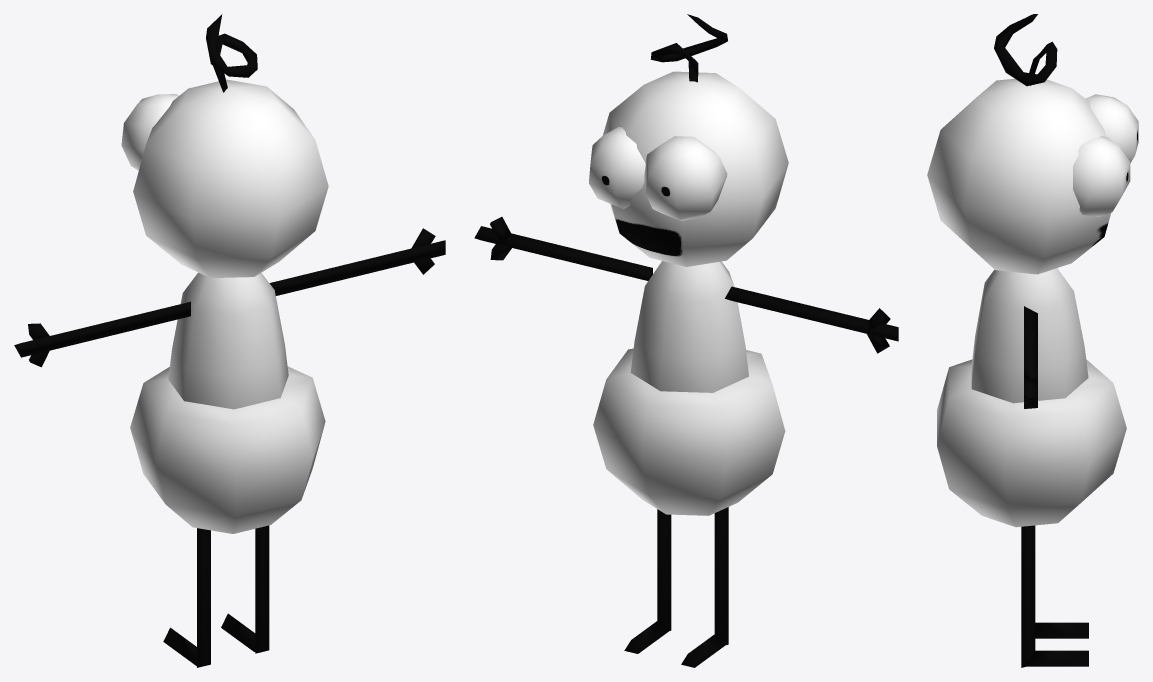
The model's file is baby3.fbx.
3 renders of one model, left to right at view 1: azimuth 30°, elevation 25°; view 2: azimuth 150°, elevation 25°; view 3: azimuth 270°, elevation 25°, orthographic.
Parts seen in each view (by area): view 1: head, hip, spine, Cylinder.009, armRight, Cylinder.013, legRight, eyeLeft, hair; view 2: hip, head, spine, eyeLeft, eyeRight, armRight, Cylinder.009, Cylinder.013, legRight, hair; view 3: head, hip, spine, eyeRight, legRight, eyeLeft, hair, armRight, Cylinder.013.
Part boxes in pixels (<box>): head: <box>133,79,328,277</box>; hip: <box>130,366,325,533</box>; spine: <box>168,272,288,409</box>; Cylinder.009: <box>14,301,190,367</box>; armRight: <box>269,228,445,295</box>; Cylinder.013: <box>163,528,210,667</box>; legRight: <box>221,525,269,653</box>; eyeLeft: <box>121,94,178,170</box>; hair: <box>206,14,257,92</box>; hip: <box>593,348,785,515</box>; head: <box>603,71,788,266</box>; spine: <box>630,261,748,392</box>; eyeLeft: <box>644,136,727,220</box>; eyeRight: <box>589,127,645,208</box>; armRight: <box>474,217,652,280</box>; Cylinder.009: <box>725,286,898,353</box>; Cylinder.013: <box>681,507,728,667</box>; legRight: <box>624,509,671,653</box>; hair: <box>650,14,727,82</box>; head: <box>927,78,1110,274</box>; hip: <box>937,359,1126,527</box>; spine: <box>971,268,1088,403</box>; eyeRight: <box>1073,136,1130,217</box>; legRight: <box>1021,525,1088,667</box>; eyeLeft: <box>1085,94,1138,163</box>; hair: <box>994,14,1057,86</box>; armRight: <box>1024,306,1037,408</box>; Cylinder.013: <box>1035,622,1088,638</box>.
Bounding box in the file's own units: 488 × 702 × 212.
